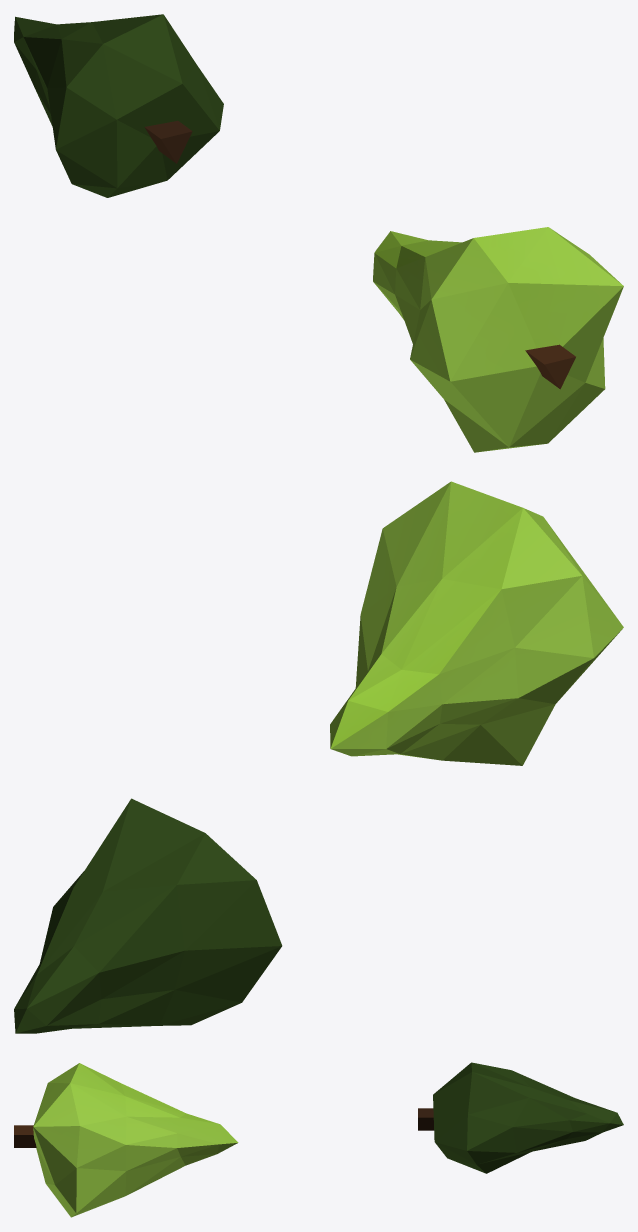
The model's file is choinki.fbx.
The picture shows the model from 3 angles, top to bottom: view 1: azimuth 30°, elevation 25°; view 2: azimuth 150°, elevation 25°; view 3: azimuth 270°, elevation 25°; orthographic projection. The views are drawn at different scales.
Visible parts, largest first — view 1: drzewo.006, choinka; view 2: drzewo.006, choinka; view 3: drzewo.006, choinka.
Part boxes in pixels (box(x1,y1,x2,y2)): drzewo.006: box(373, 227, 623, 452); choinka: box(14, 14, 223, 197); drzewo.006: box(330, 481, 623, 765); choinka: box(14, 798, 282, 1033); drzewo.006: box(14, 1063, 238, 1217); choinka: box(418, 1062, 623, 1173).
Size of the model in its own units: 50.59 by 44.15 by 182.
1 material, 1 textured.
